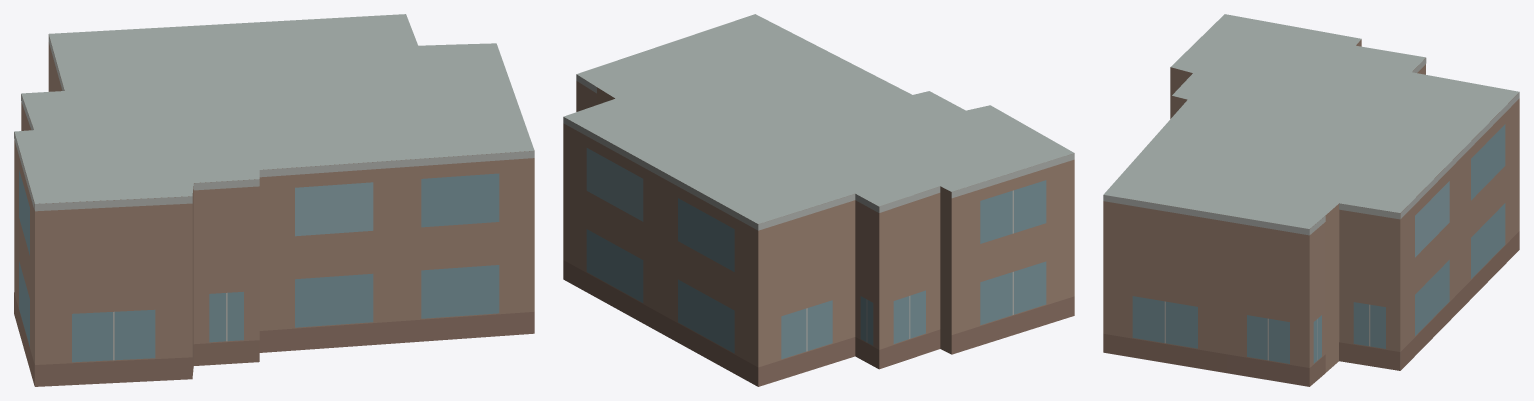
File: survey-upis-32871606.glb
3 views of the same model, side by side, from view 1: azimuth 30°, elevation 25°; view 2: azimuth 150°, elevation 25°; view 3: azimuth 270°, elevation 25° (orthographic). The views are drawn at different scales.
Parts seen in each view (by area): view 1: survey-upis-32871606.tmp; view 2: survey-upis-32871606.tmp; view 3: survey-upis-32871606.tmp.
Part boxes in pixels (x1,y1,x2,y2): survey-upis-32871606.tmp: (14,14,534,386); survey-upis-32871606.tmp: (563,14,1074,386); survey-upis-32871606.tmp: (1103,14,1519,386).
Size of the model in its own units: 17.84 by 6.1 by 14.6.
